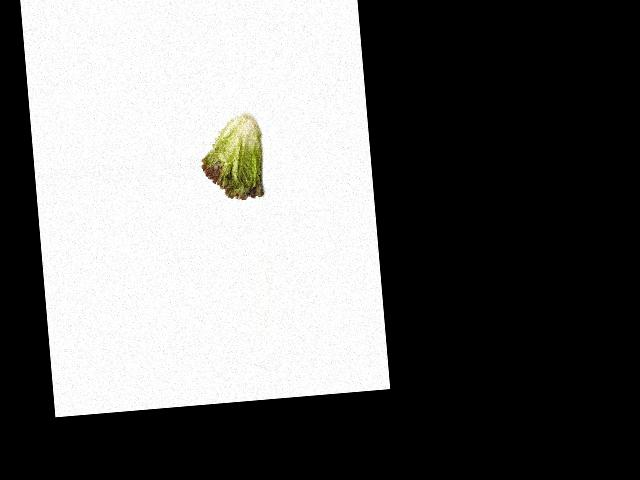lettuce: (198, 112, 265, 204)
